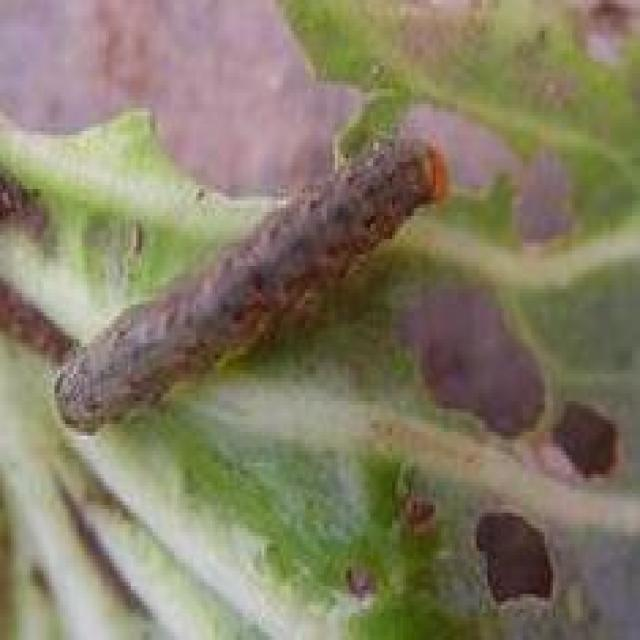BeetArmyWorm-Larva-: (44, 133, 458, 450)
